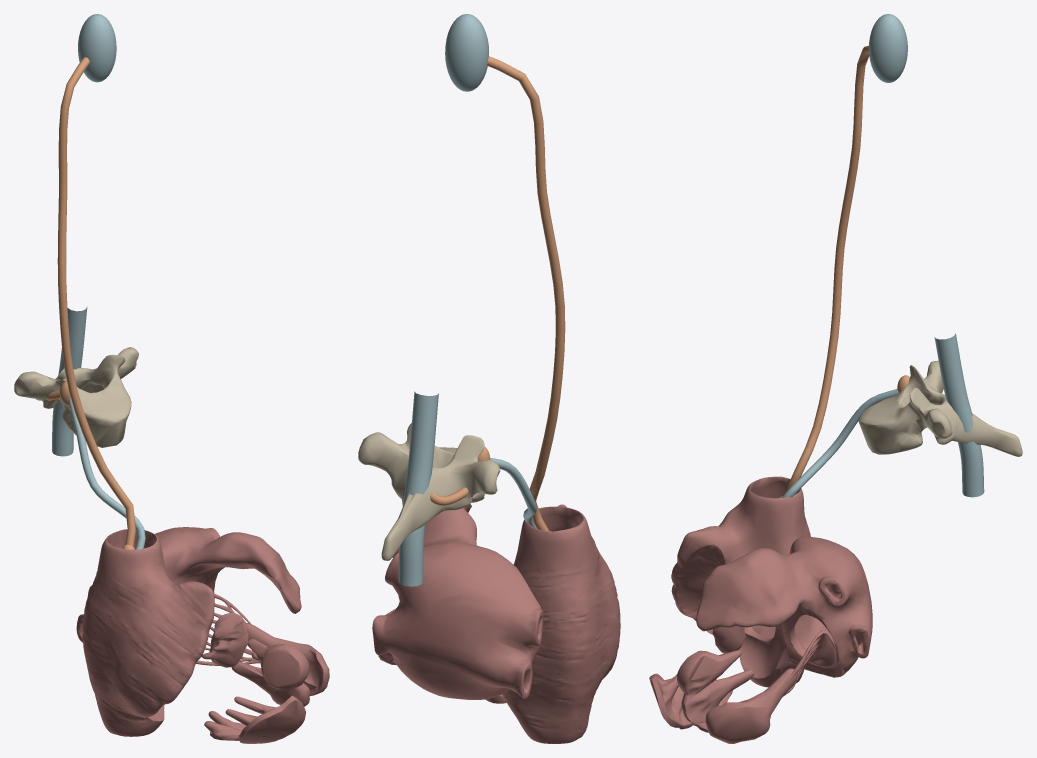
File: cardiac-autonomic.glb
3 views of the same model, side by side, from view 1: azimuth 30°, elevation 25°; view 2: azimuth 150°, elevation 25°; view 3: azimuth 270°, elevation 25° (orthographic). The views are drawn at different scales.
Parts seen in each view (by area): view 1: wall_of_right_atrium, wall_of_left_atrium, third_thoracic_vertebra, wall_of_left_ventricle, wall_of_right_ventricle, Vagal preganglionic fiber, Medulla relay, Upper thoracic cord, Sympathetic cardiac fiber; view 2: wall_of_left_atrium, wall_of_right_atrium, third_thoracic_vertebra, Vagal preganglionic fiber, Upper thoracic cord, Medulla relay, Sympathetic cardiac fiber; view 3: wall_of_left_atrium, wall_of_right_atrium, wall_of_left_ventricle, third_thoracic_vertebra, Vagal preganglionic fiber, Upper thoracic cord, wall_of_right_ventricle, Medulla relay, Sympathetic cardiac fiber.
Boxes of the visible parts, <box> form: wall_of_right_atrium: <box>82,529,214,736</box>; wall_of_left_atrium: <box>76,527,301,642</box>; third_thoracic_vertebra: <box>14,347,138,447</box>; wall_of_left_ventricle: <box>196,593,329,706</box>; wall_of_right_ventricle: <box>201,612,305,743</box>; Vagal preganglionic fiber: <box>57,57,135,546</box>; Medulla relay: <box>78,14,116,82</box>; Upper thoracic cord: <box>52,307,87,456</box>; Sympathetic cardiac fiber: <box>68,398,145,549</box>; wall_of_left_atrium: <box>372,504,543,699</box>; wall_of_right_atrium: <box>502,504,620,743</box>; third_thoracic_vertebra: <box>358,423,500,560</box>; Vagal preganglionic fiber: <box>487,56,565,531</box>; Upper thoracic cord: <box>398,391,438,586</box>; Medulla relay: <box>445,14,489,91</box>; Sympathetic cardiac fiber: <box>490,458,536,528</box>; wall_of_left_atrium: <box>696,536,872,677</box>; wall_of_right_atrium: <box>671,476,810,687</box>; wall_of_left_ventricle: <box>677,630,838,743</box>; third_thoracic_vertebra: <box>858,360,1022,456</box>; Vagal preganglionic fiber: <box>783,45,869,495</box>; Upper thoracic cord: <box>934,333,984,497</box>; wall_of_right_ventricle: <box>649,626,746,732</box>; Medulla relay: <box>868,14,907,82</box>; Sympathetic cardiac fiber: <box>782,389,898,497</box>.
Bounding box in the file's own units: 0.1115 × 0.3456 × 0.1713.
